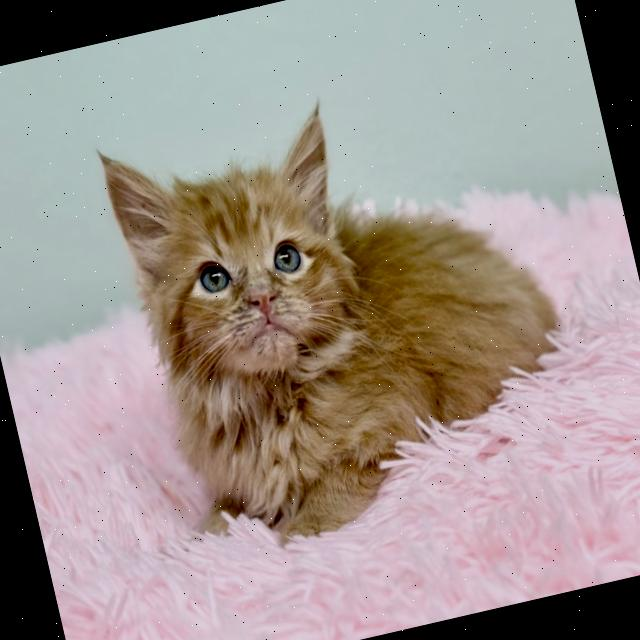maine_coon_cat: (73, 88, 399, 444)
